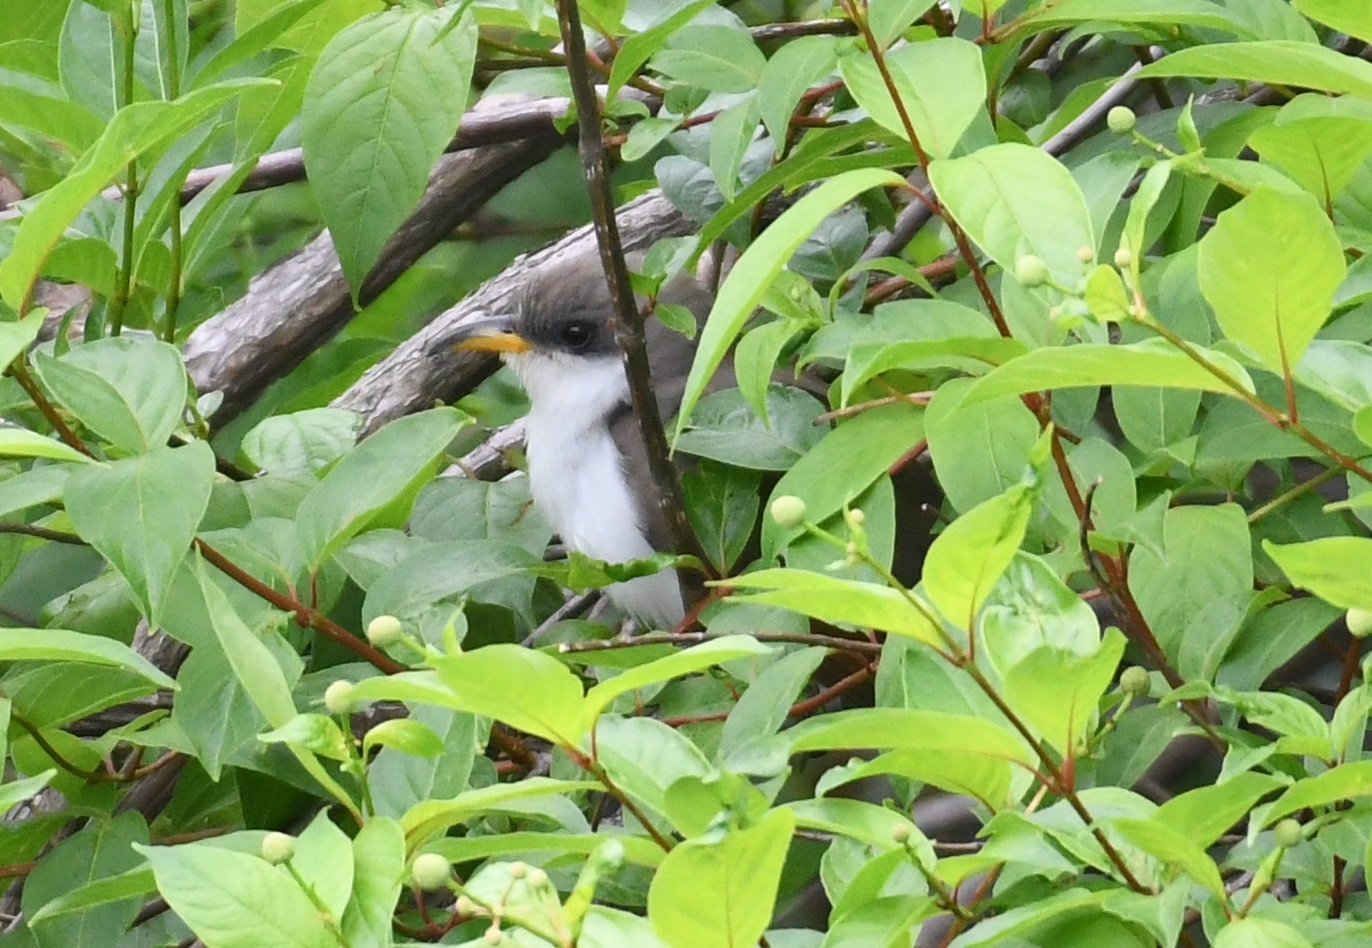bird: (427, 243, 748, 622)
